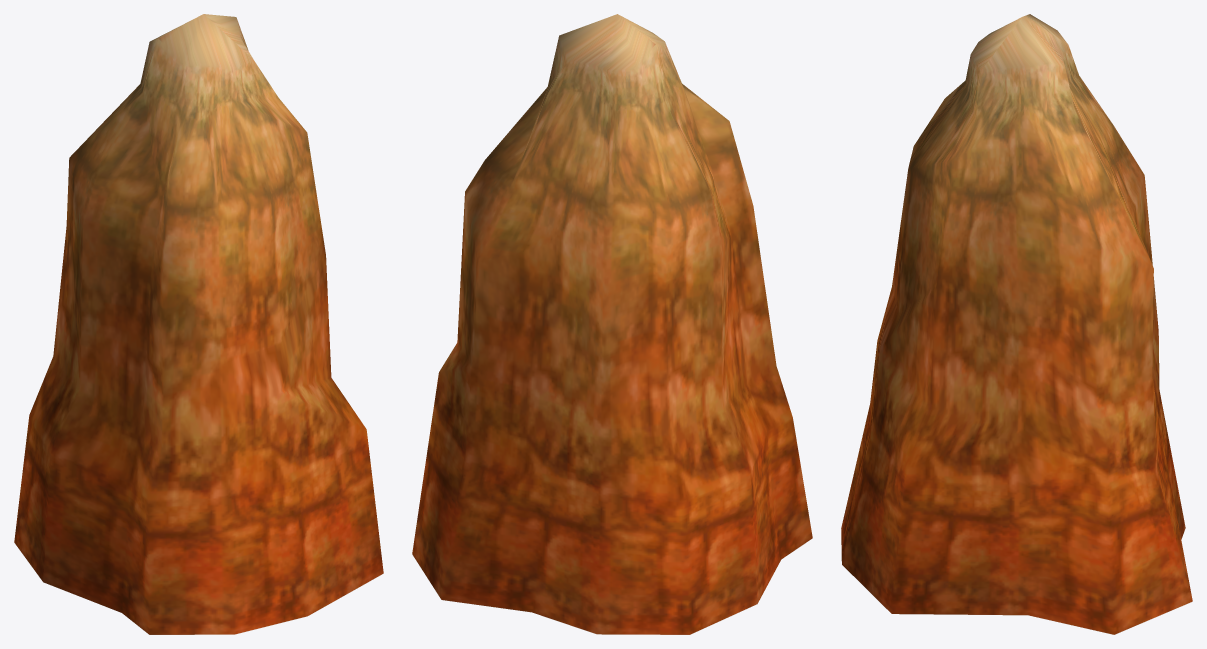
Rendered from durotarrock05.obj.
3 views of the same model, side by side, from view 1: azimuth 30°, elevation 25°; view 2: azimuth 150°, elevation 25°; view 3: azimuth 270°, elevation 25° (orthographic).
Visible parts, largest first — view 1: DurotarRock05; view 2: DurotarRock05; view 3: DurotarRock05.
Part boxes in pixels (x1,y1,x2,y2): DurotarRock05: (14,14,383,634); DurotarRock05: (412,14,812,634); DurotarRock05: (841,14,1192,634).
Size of the model in its own units: 11.78 by 19.8 by 11.66.
1 material, 1 textured.
